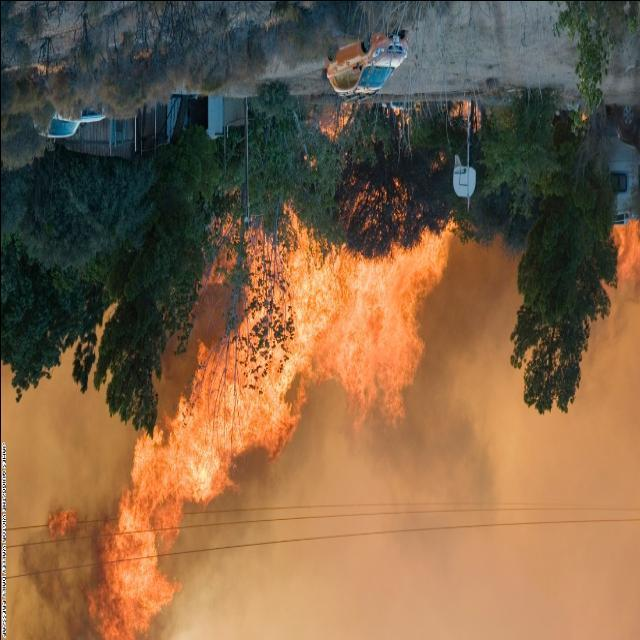Fire: (42, 207, 465, 635)
